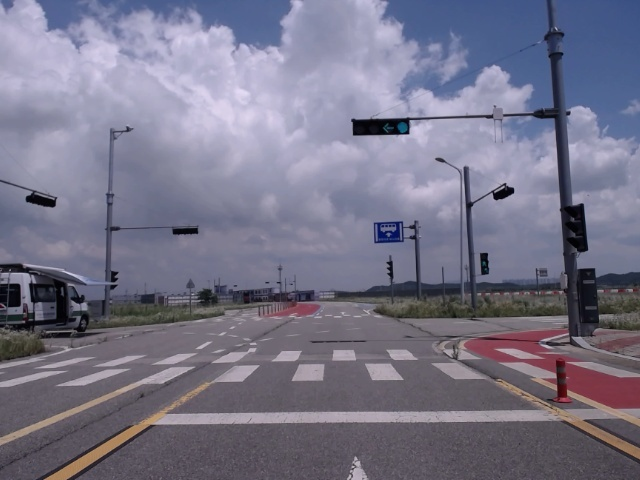all_green_4: (351, 120, 414, 136)
